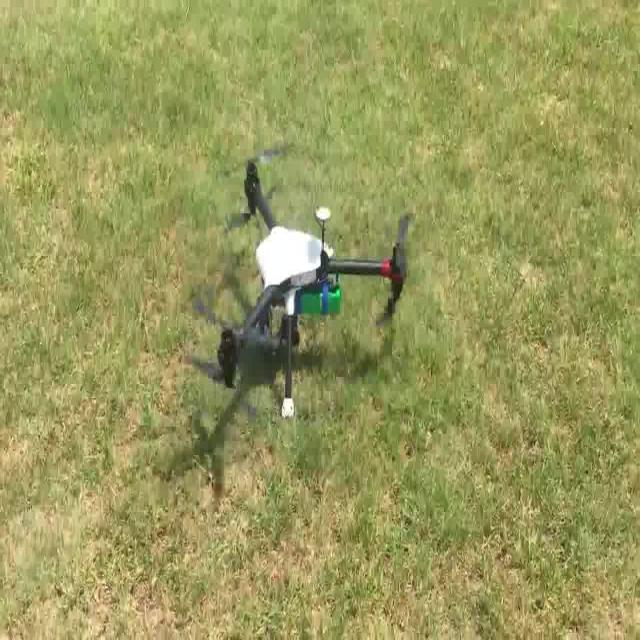drone: (190, 156, 408, 420)
